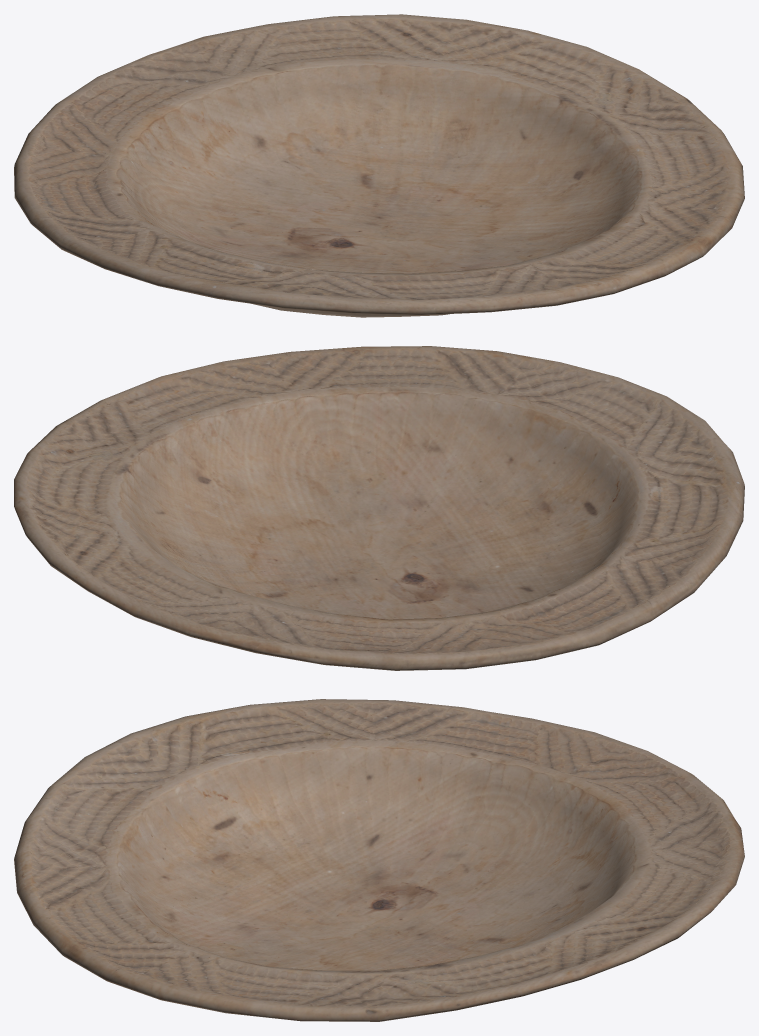
The model's file is carved_wooden_plate.gltf.
3 renders of one model, top to bottom at view 1: azimuth 30°, elevation 25°; view 2: azimuth 150°, elevation 25°; view 3: azimuth 270°, elevation 25°, orthographic. The views are drawn at different scales.
Parts seen in each view (by area): view 1: carved_wooden_plate; view 2: carved_wooden_plate; view 3: carved_wooden_plate.
Part boxes in pixels (x1=…): carved_wooden_plate: x1=14, y1=14, x2=744, y2=317; carved_wooden_plate: x1=14, y1=346, x2=744, y2=670; carved_wooden_plate: x1=14, y1=699, x2=744, y2=1021.
Bounding box in the file's own units: 0.2718 × 0.0381 × 0.2688.
Materials: 1 (1 with a texture image).
